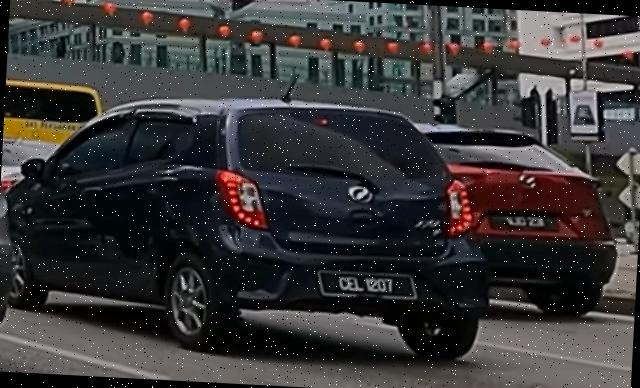License_Plate: (316, 268, 420, 304)
car: (1, 79, 500, 366), (404, 120, 624, 321)
